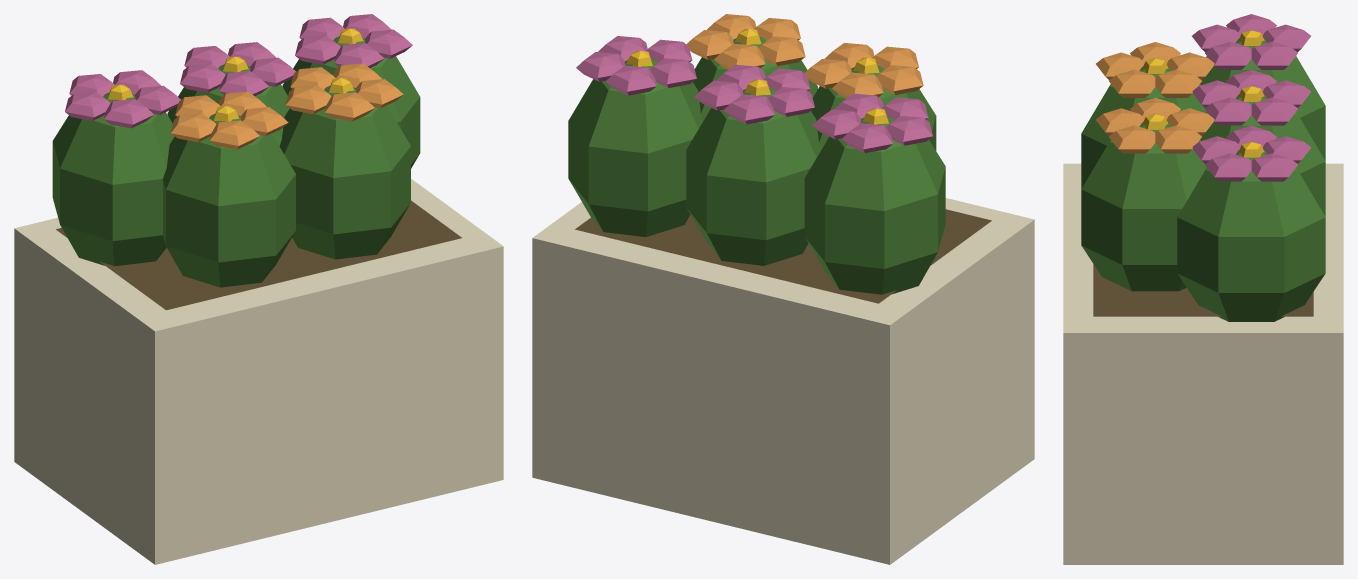
Rendered from FlowerPlanter.obj.
3 views of the same model, side by side, from view 1: azimuth 30°, elevation 25°; view 2: azimuth 150°, elevation 25°; view 3: azimuth 270°, elevation 25° (orthographic). The views are drawn at different scales.
Parts seen in each view (by area): view 1: FlowerPlanter; view 2: FlowerPlanter; view 3: FlowerPlanter.
Part boxes in pixels (left/top/right/bottom): FlowerPlanter: left=14, top=14, right=503, bottom=564; FlowerPlanter: left=532, top=14, right=1034, bottom=564; FlowerPlanter: left=1063, top=14, right=1343, bottom=564.
Size of the model in its own units: 1 by 1.09 by 0.7.
